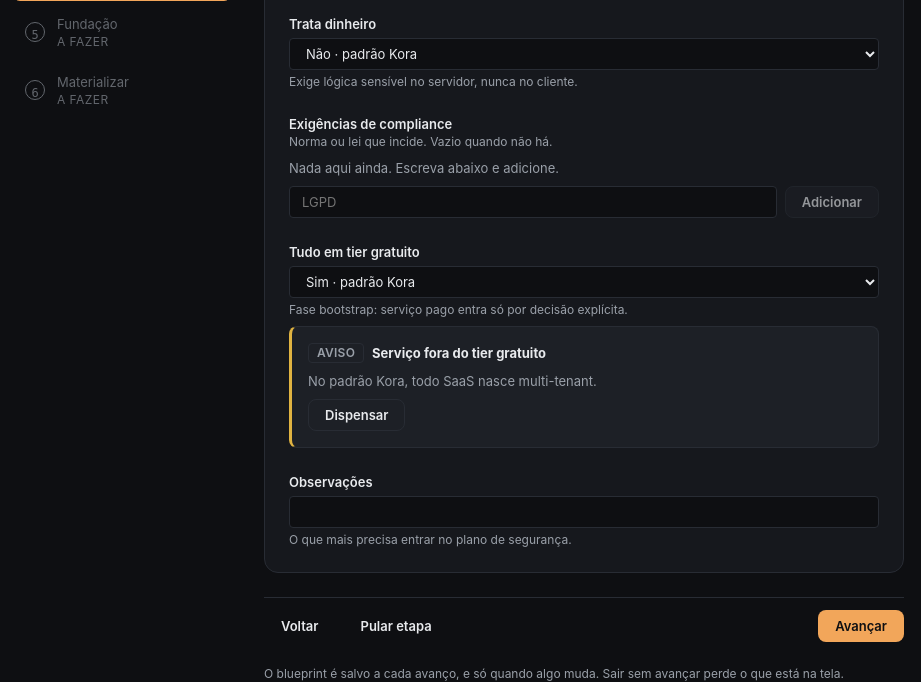
motor de regras no wizard › dispensar pelo wizard manda a justificativa e atualiza a avaliação
(page scrolled)
Click the button "Dispensar".
click(357, 415)  # box top-left (308, 399), bottom-right (406, 431)
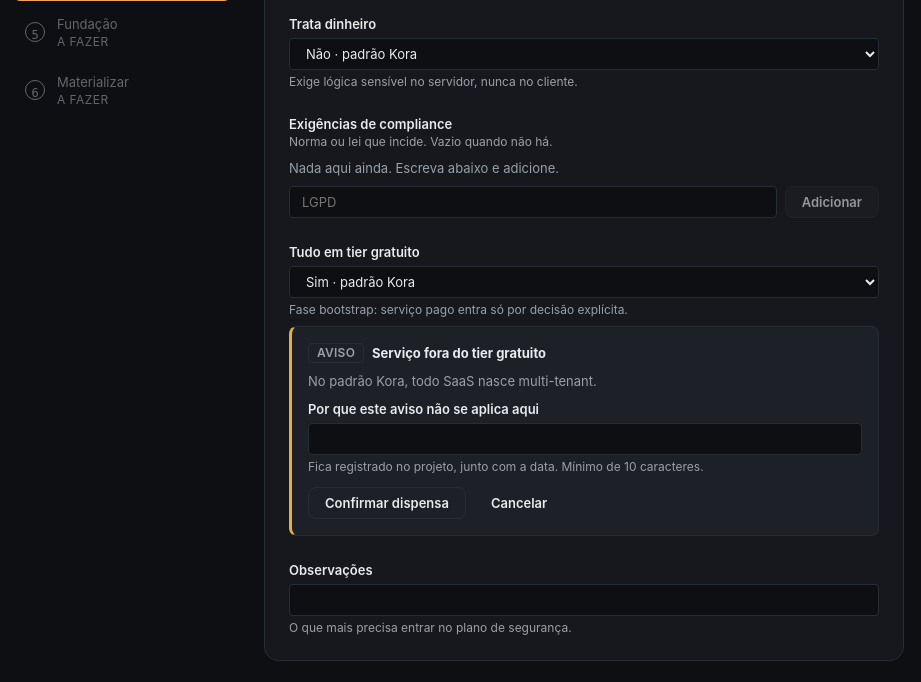
Type "Cabe no plano gratuito da Vercel." into the field labelled "Por que este aviso não se aplica aqui".
click(585, 439); type("Cabe no plano gratuito da Vercel.")  # box top-left (308, 423), bottom-right (862, 455)
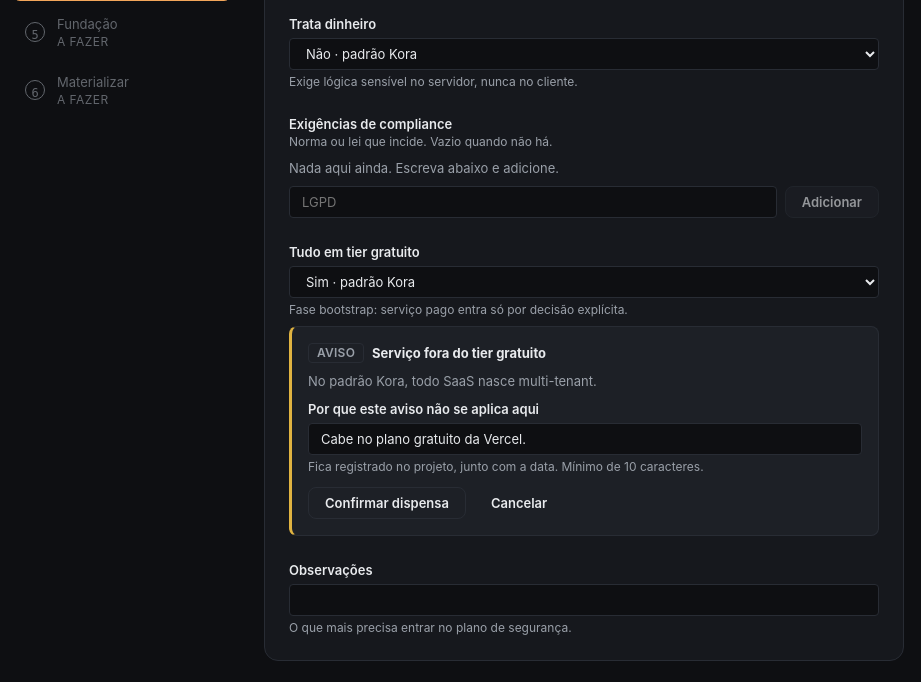
Click the button "Confirmar dispensa".
click(387, 503)  # box top-left (308, 487), bottom-right (466, 519)
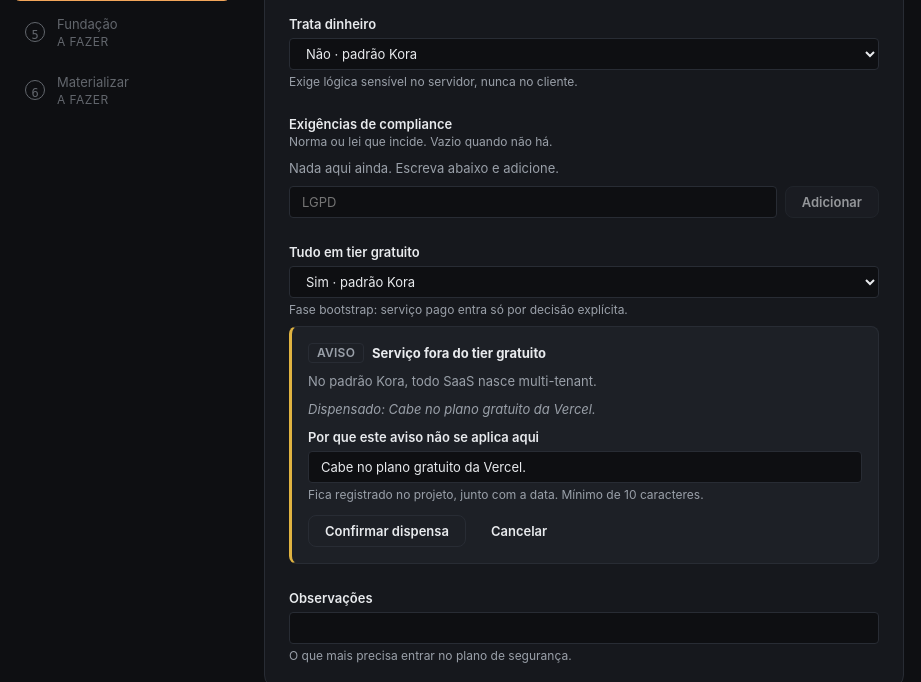
Now the text "Dispensado: Cabe no plano gratuito da Vercel." is shown, box top-left (308, 401), bottom-right (596, 417)
